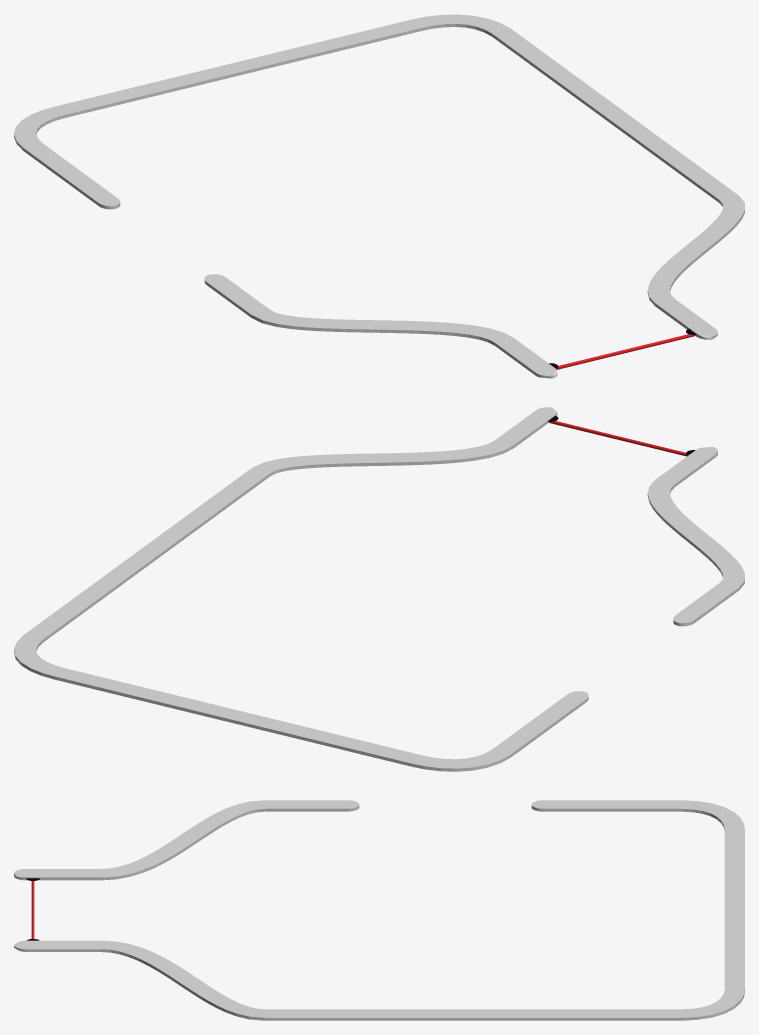
The model's file is buttle cube 2.fbx.
3 views of the same model, one above another, from view 1: azimuth 30°, elevation 25°; view 2: azimuth 150°, elevation 25°; view 3: azimuth 270°, elevation 25° (orthographic). The views are drawn at different scales.
Visible parts, largest first — view 1: Plane2_1, Plane2_2, Plane2_3; view 2: Plane2_1, Plane2_2, Plane2_3; view 3: Plane2_2, Plane2_1, Plane2_3.
Boxes of the visible parts, x1=… form: Plane2_1: x1=14, y1=14, x2=588, y2=209; Plane2_2: x1=204, y1=160, x2=744, y2=378; Plane2_3: x1=527, y1=60, x2=706, y2=193; Plane2_1: x1=14, y1=576, x2=588, y2=771; Plane2_2: x1=204, y1=407, x2=744, y2=626; Plane2_3: x1=79, y1=483, x2=257, y2=615; Plane2_2: x1=14, y1=800, x2=359, y2=1020; Plane2_1: x1=531, y1=800, x2=744, y2=1020; Plane2_3: x1=308, y1=1009, x2=629, y2=1020.
Size of the model in its own units: 86.4 by 0.9645 by 123.
